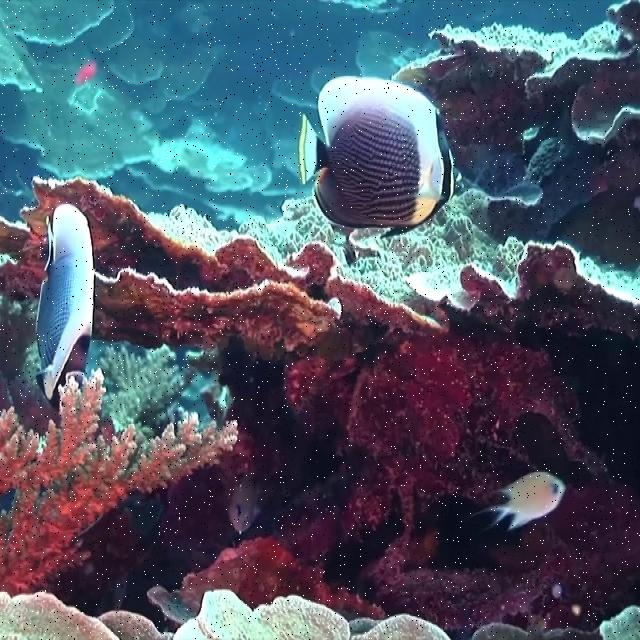fish: (297, 73, 454, 239), (33, 200, 96, 399), (469, 472, 565, 532)
reefs: (0, 3, 638, 629), (0, 343, 240, 598), (0, 588, 451, 639)
